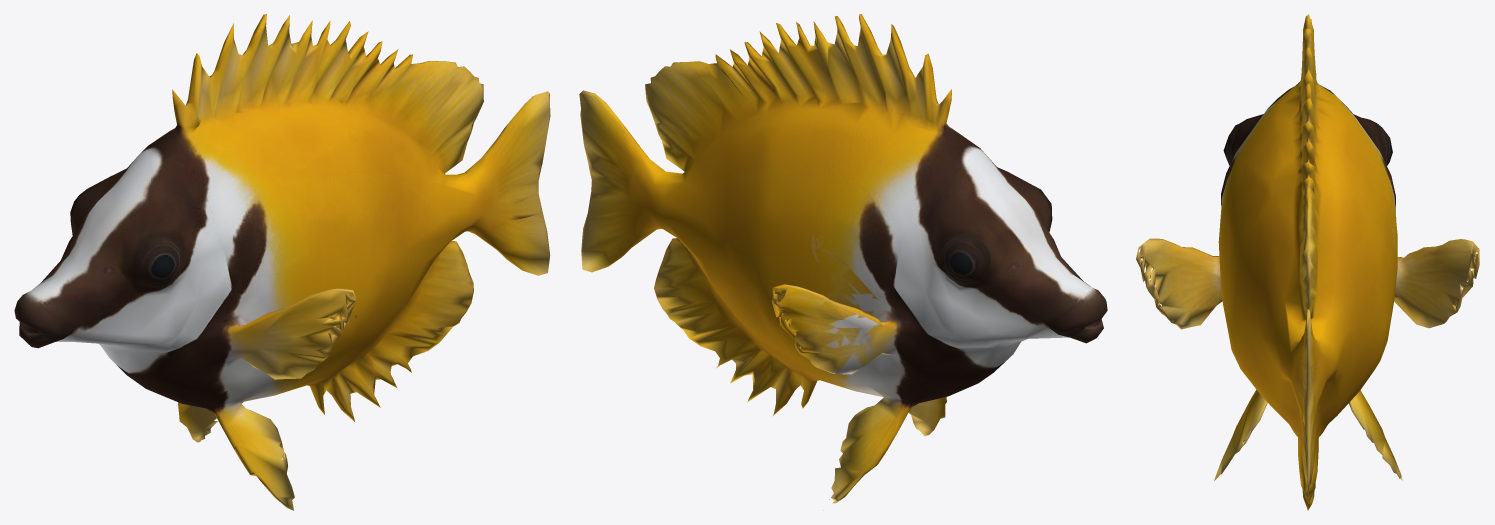
The model's file is foxface.093b653902.glb.
3 renders of one model, left to right at view 1: azimuth 30°, elevation 25°; view 2: azimuth 150°, elevation 25°; view 3: azimuth 270°, elevation 25°, orthographic. The views are drawn at different scales.
Parts seen in each view (by area): view 1: foxface; view 2: foxface; view 3: foxface.
Part boxes in pixels (x1,y1,x2,y2): foxface: (14,14,550,510); foxface: (579,14,1107,503); foxface: (1136,14,1479,510).
Size of the model in its own units: 0.9779 by 0.8166 by 0.5437.
1 material, 1 textured.
